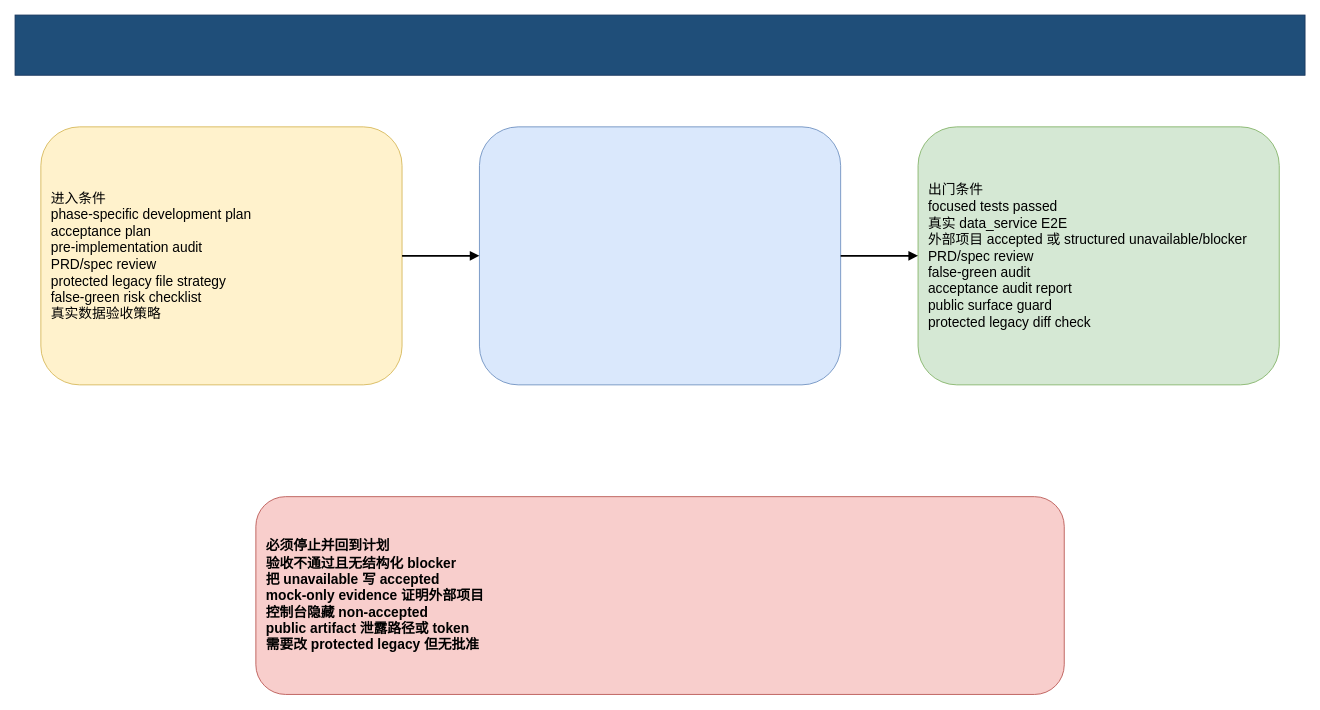
The diagram is 1320 pixels wide and 710 high, and some of its shapes have lost their labels. Here are the shapes that lost their labels. From the top down, the centre of each, then its label:
At [659,44]: "里程碑与出门条件：没有审计闭环不得进入实现；验收失败必须回到开发计划".
At [660,255]: "里程碑 M1 外部项目闭环 M2 CI/warning 治理 M3 Agent 长期记忆 M4 交互式控制台 M5 发布恢复打包".
